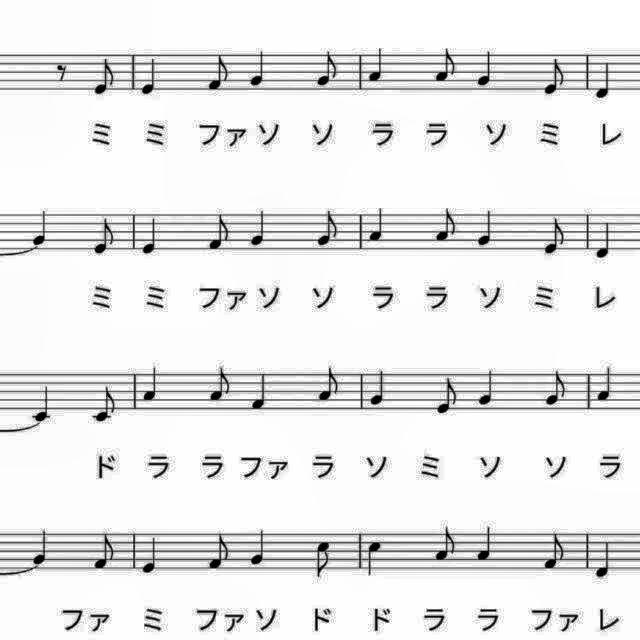Eighth-note: (314, 204, 346, 252), (89, 53, 121, 99), (313, 47, 345, 93), (540, 528, 572, 574), (203, 529, 234, 575), (538, 213, 568, 260), (204, 362, 236, 406), (312, 362, 344, 406), (89, 530, 121, 574), (88, 383, 120, 427), (205, 207, 235, 253), (433, 371, 463, 417), (541, 366, 571, 412), (203, 50, 234, 94), (432, 205, 463, 248), (90, 216, 120, 260), (431, 524, 462, 566), (431, 44, 462, 86), (538, 54, 566, 98), (311, 538, 337, 582)
Eighth-rest: (52, 58, 72, 86)
Quarter-note: (136, 53, 164, 99), (472, 46, 500, 92), (136, 214, 164, 260), (244, 46, 272, 90), (590, 538, 618, 582), (472, 208, 500, 252), (474, 366, 502, 410), (246, 368, 274, 412), (591, 58, 619, 102), (246, 524, 274, 568), (592, 218, 618, 264), (26, 384, 54, 426), (473, 522, 499, 566), (246, 206, 272, 250), (137, 534, 163, 578), (367, 366, 393, 410), (29, 208, 55, 250), (29, 527, 55, 569), (363, 44, 389, 86), (362, 536, 386, 580), (366, 205, 390, 248), (140, 363, 164, 405), (594, 364, 618, 406)
